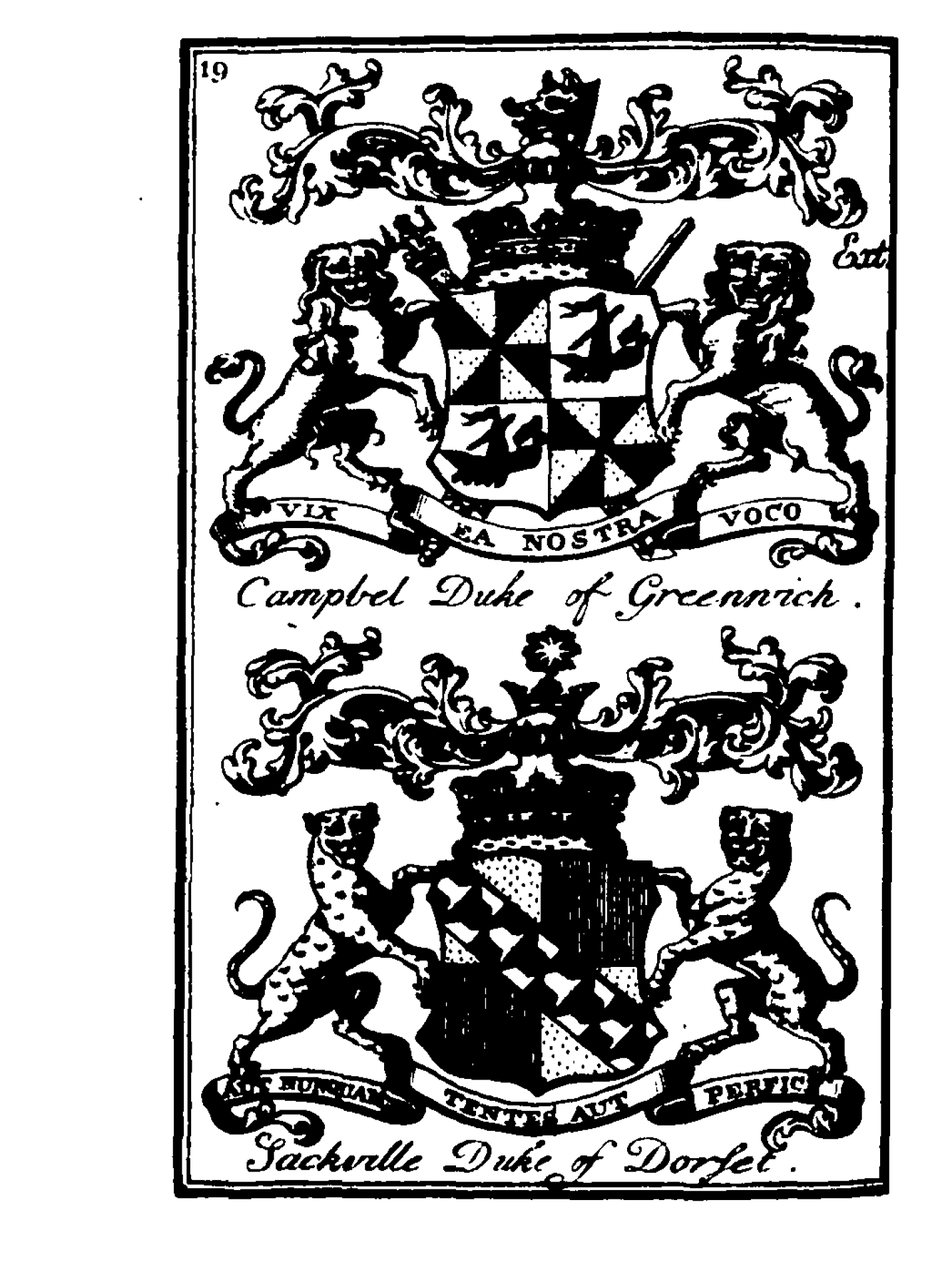coat_of_arms: (219, 616, 883, 1170), (216, 69, 875, 619)
